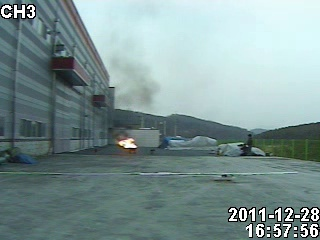fire: (114, 135, 143, 149)
smoke: (104, 31, 157, 108)
